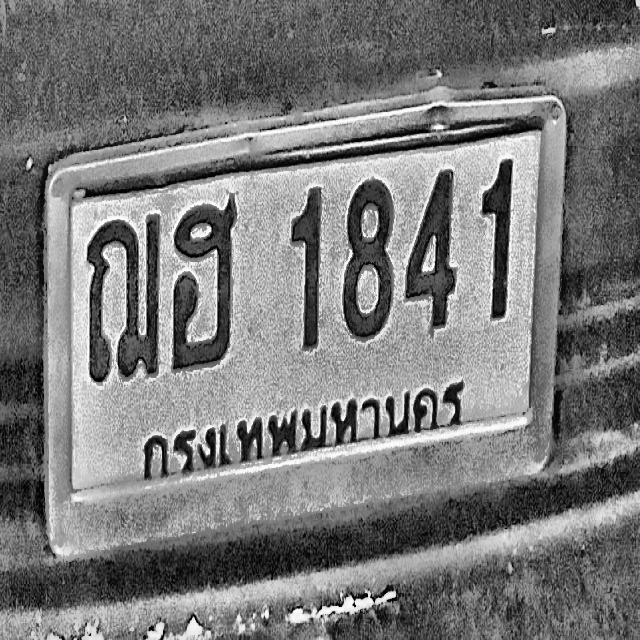license-plate: (36, 68, 574, 582)
